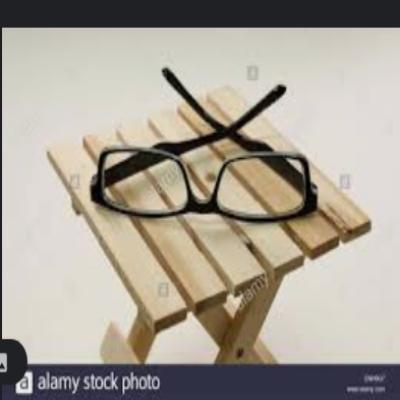glasses: (91, 64, 323, 237)
